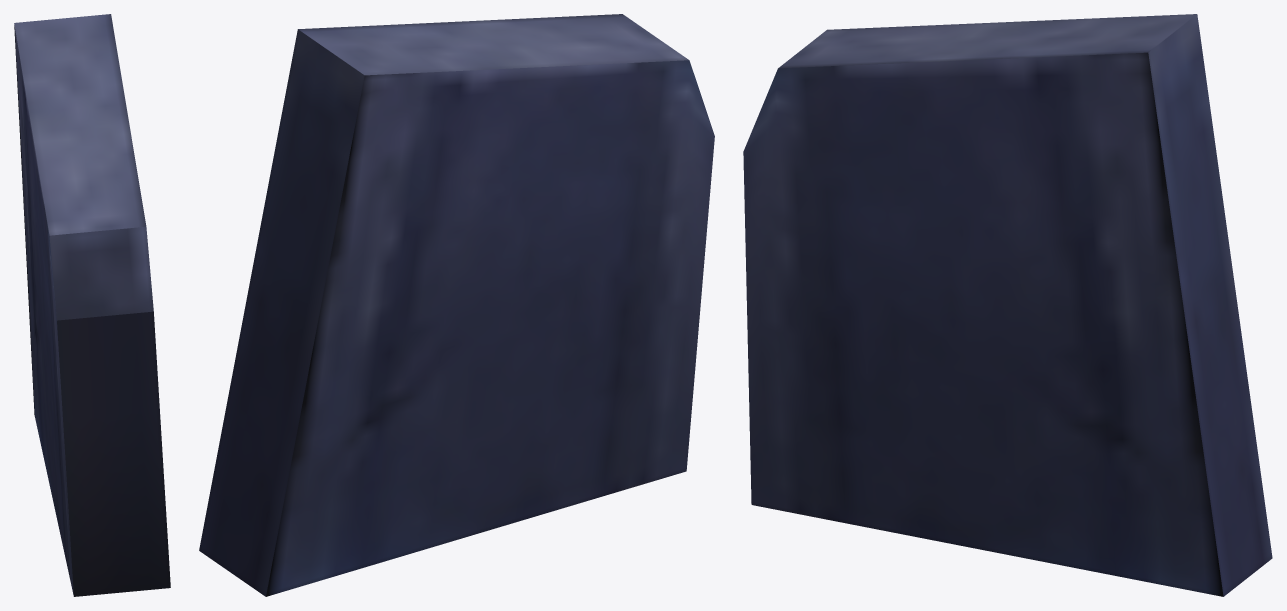
Rendered from Area01_4.fbx.
3 views of the same model, side by side, from view 1: azimuth 30°, elevation 25°; view 2: azimuth 150°, elevation 25°; view 3: azimuth 270°, elevation 25° (orthographic). The views are drawn at different scales.
Parts seen in each view (by area): view 1: Area01_4; view 2: Area01_4; view 3: Area01_4.
Part boxes in pixels (left/top/right/bottom): Area01_4: left=14, top=14, right=170, bottom=596; Area01_4: left=199, top=14, right=714, bottom=596; Area01_4: left=743, top=14, right=1272, bottom=596.
Size of the model in its own units: 108 by 177 by 163.
